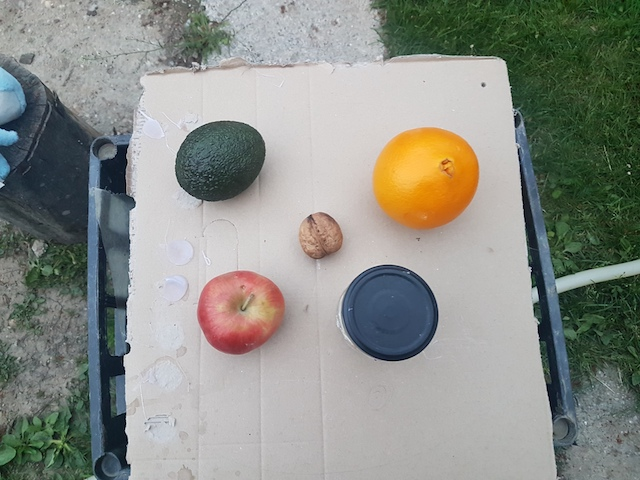apple: (192, 269, 291, 358)
avocado: (172, 117, 268, 205)
nut: (297, 210, 347, 260)
orange: (373, 124, 483, 232)
recipient: (339, 260, 439, 363)
